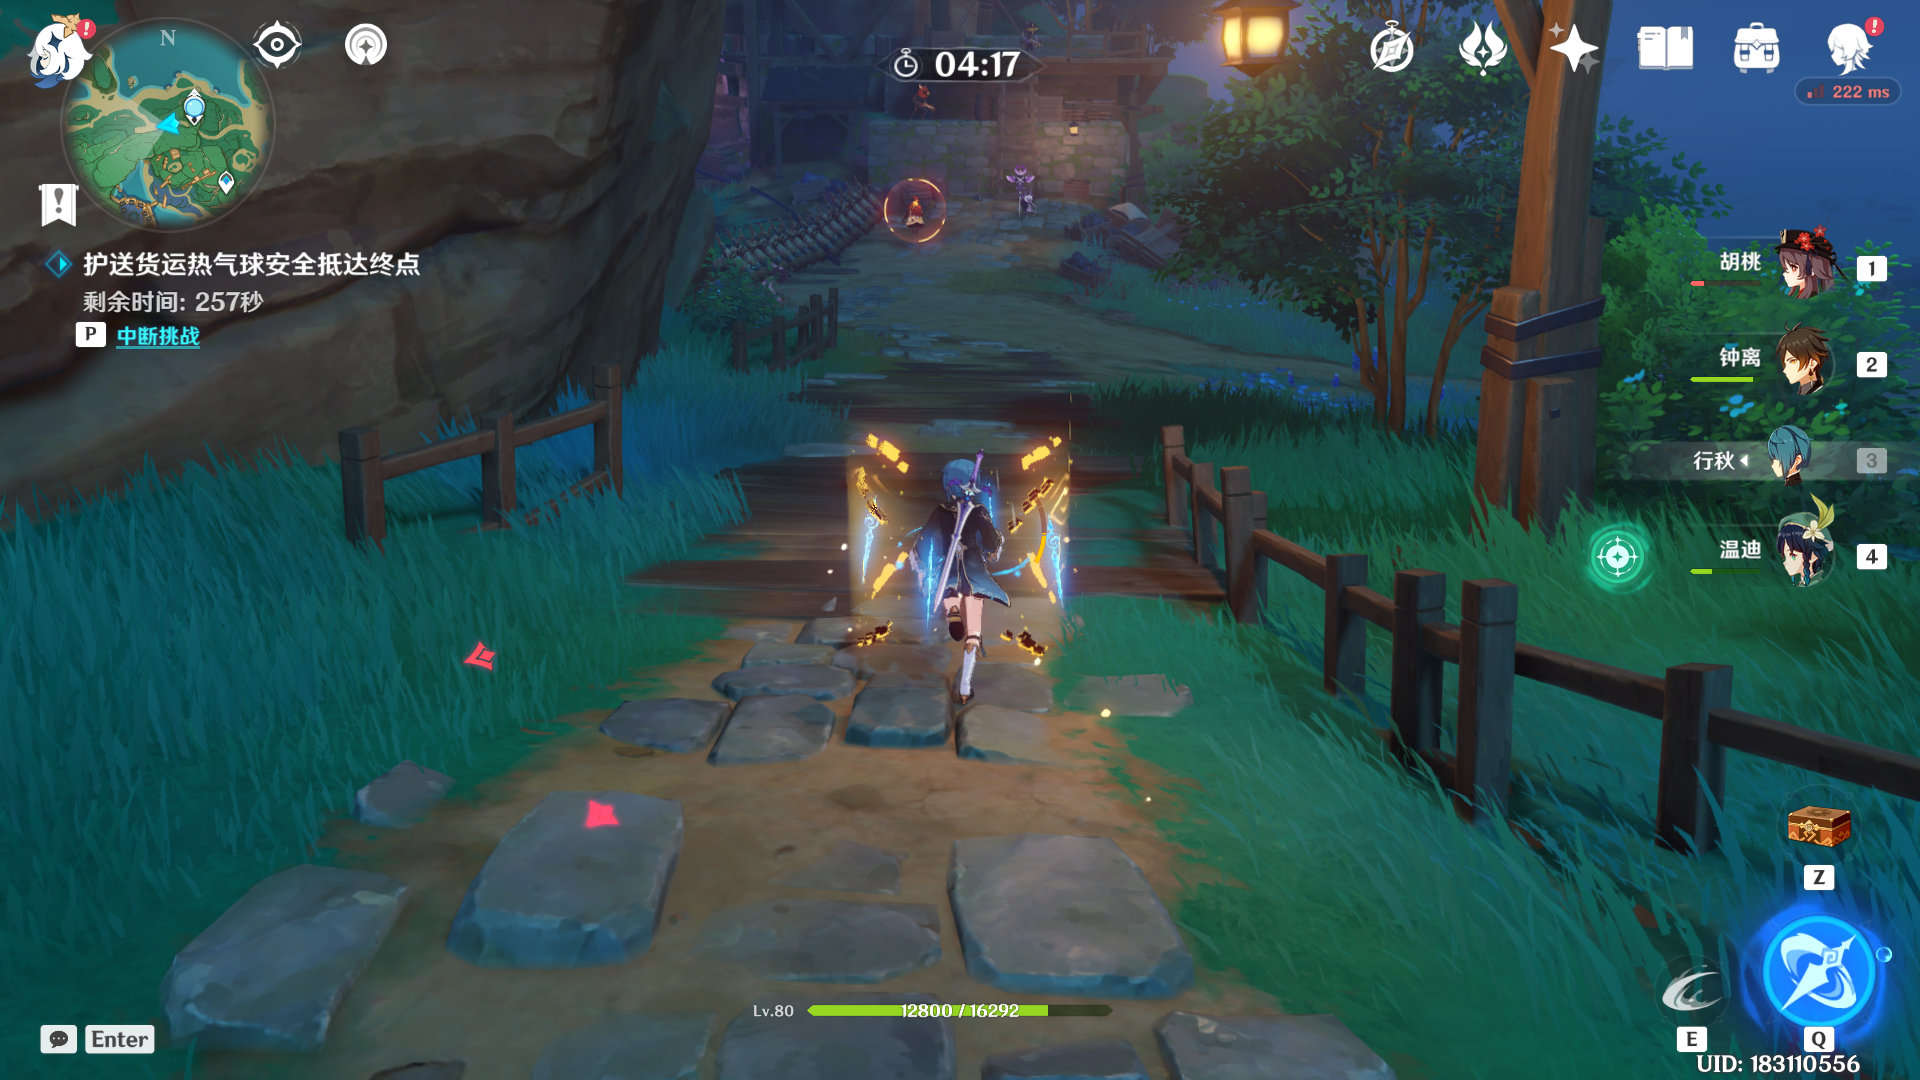caster: (876, 182, 947, 255)
character: (833, 421, 1087, 787)
hili: (902, 67, 953, 124)
